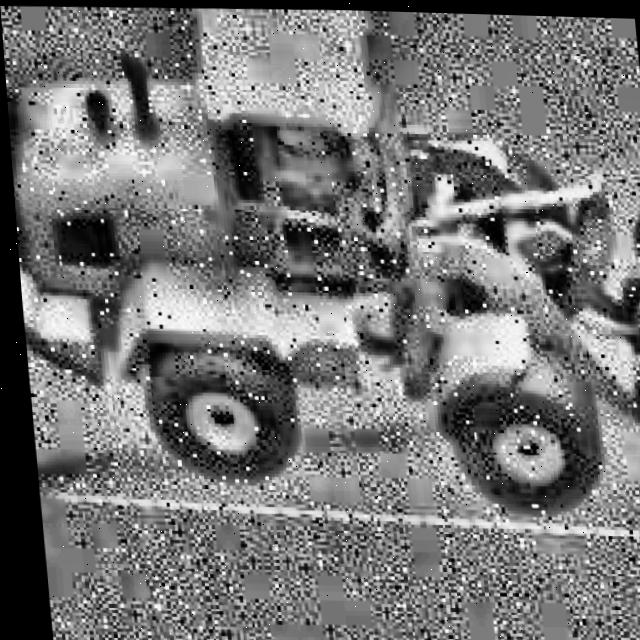buldozerpayloadergrader: (0, 0, 640, 546)
